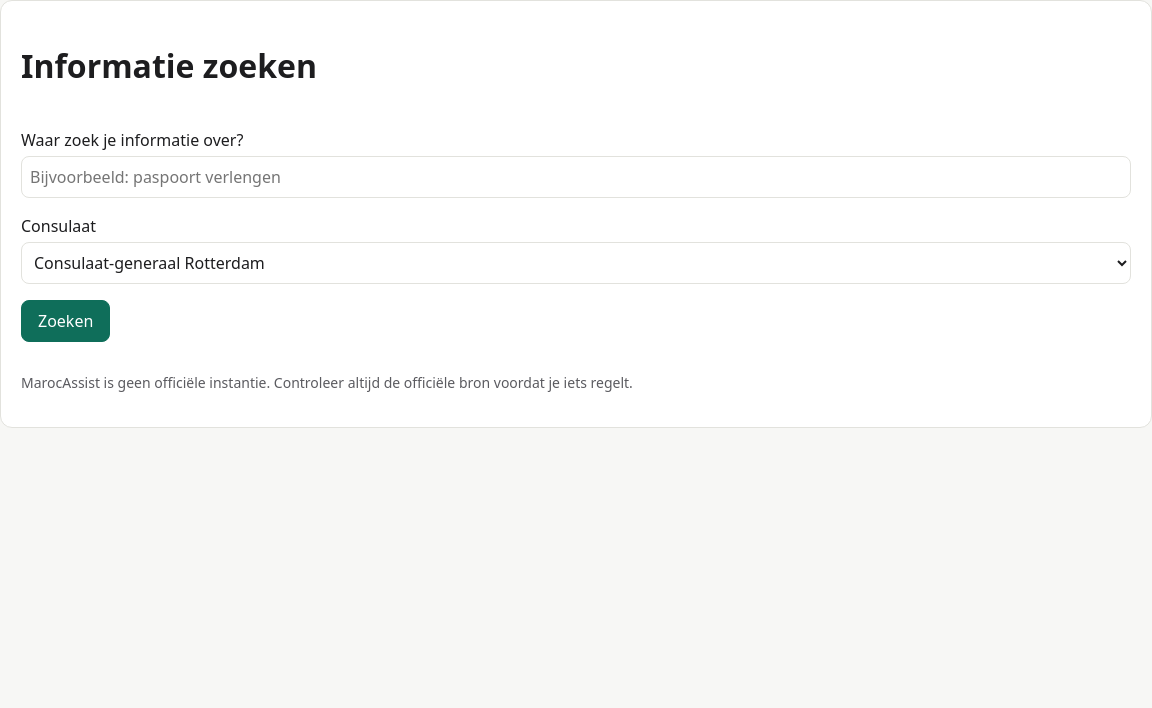
Test case: knowledge pages › searches with the profile consulate and shows results with their notices
This screenshot has width=1152, height=708.
Check: the dropdown shows "Consulaat-generaal Rotterdam", box [21,242,1131,284]
Step 1. Type "paspoort verlengen" into the search field → (576, 177), box [21,156,1131,198]
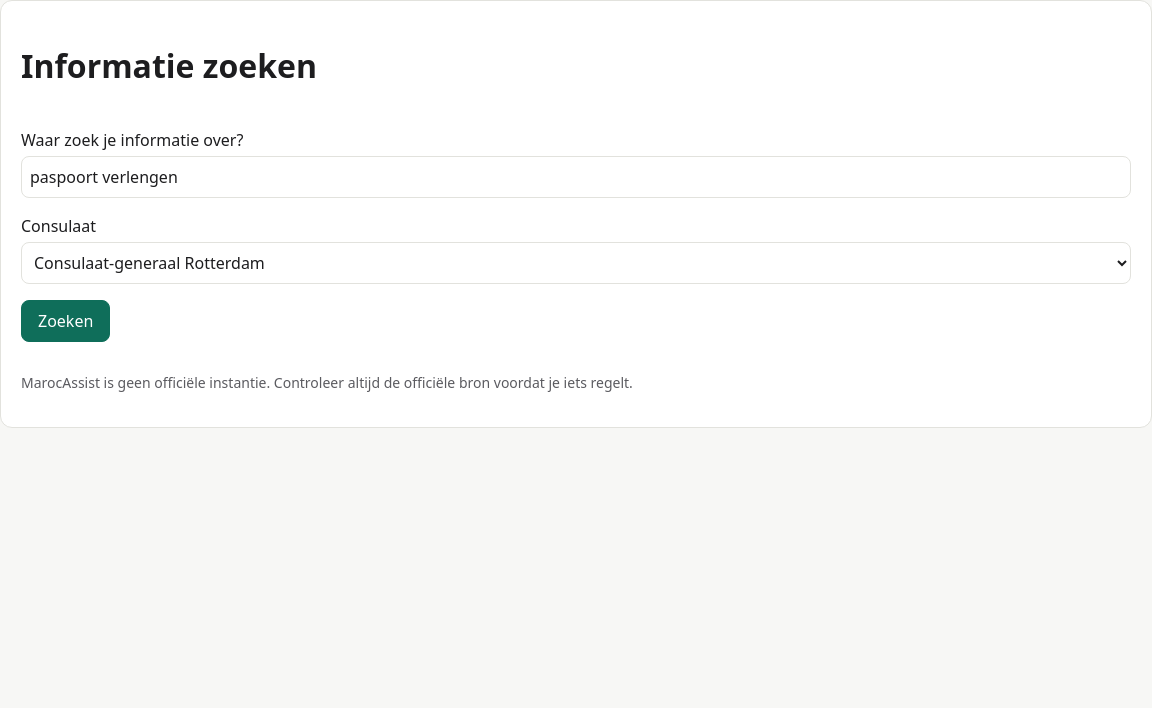
Step 2. Click the button "Zoeken" → (66, 321), box [21,300,110,342]
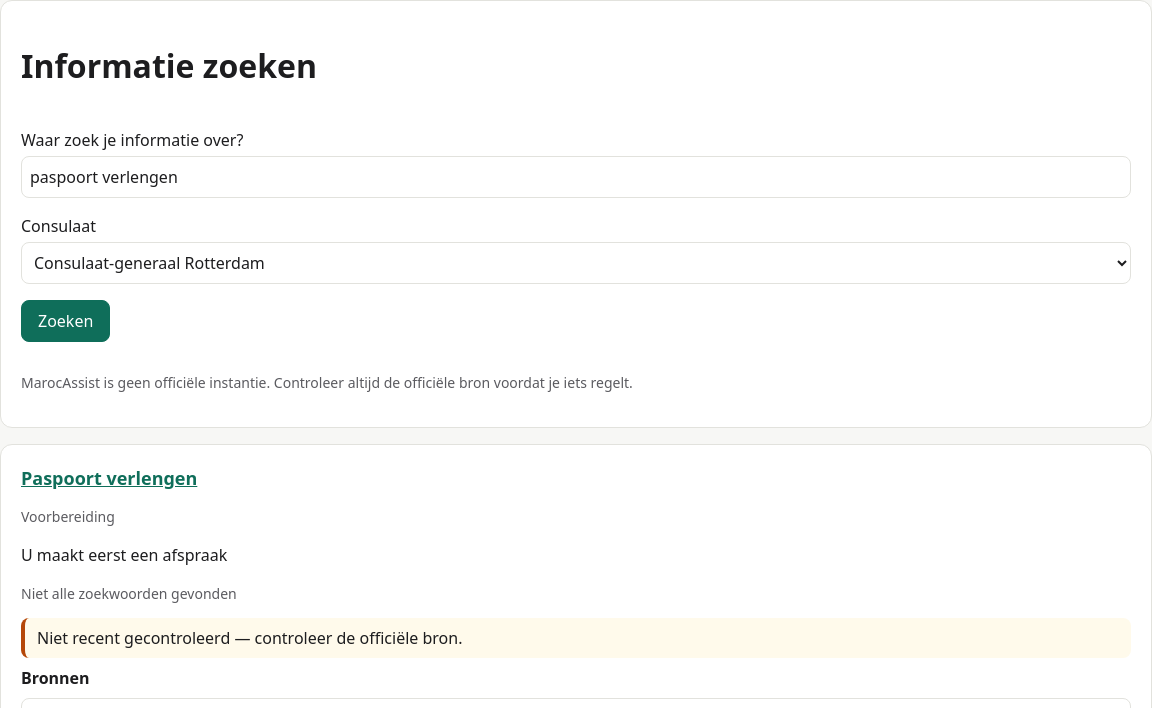
Check: the list item with test id "search-result" shows "Paspoort verlengen", box [21,466,197,490]
Check: the list item with test id "search-result" shows "Niet recent gecontroleerd", box [37,627,462,649]
Check: the list item with test id "search-result" shows "Niet alle zoekwoorden gevonden", box [21,584,237,603]
